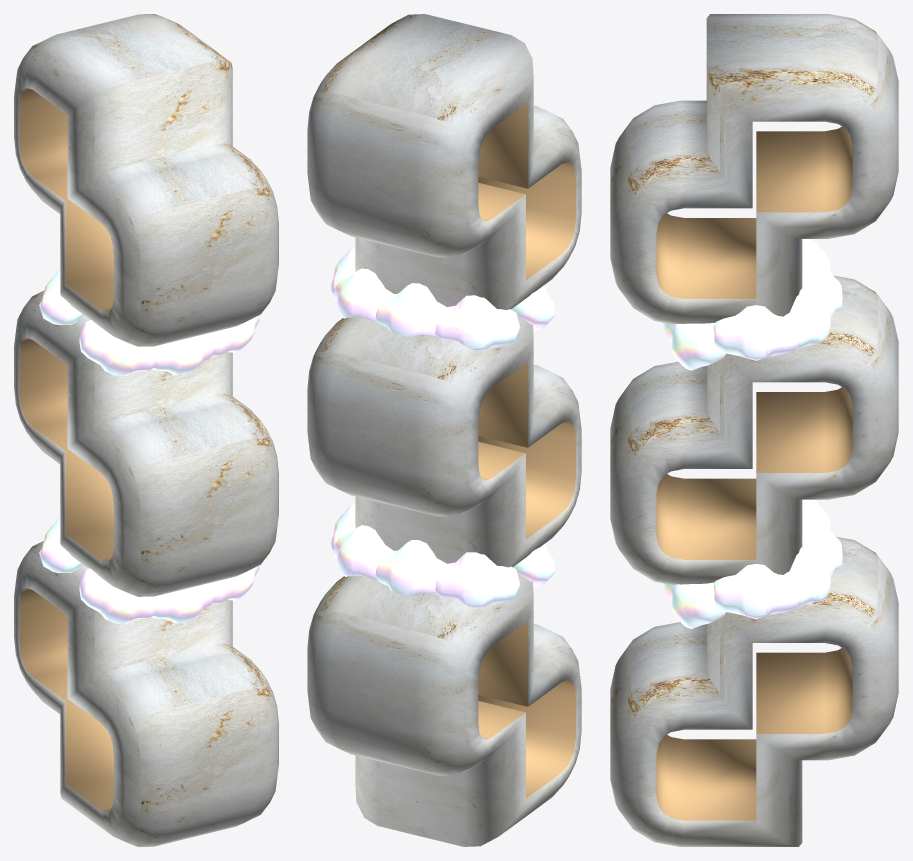
Rendered from track2Building2.glb.
The picture shows the model from 3 angles, left to right: view 1: azimuth 30°, elevation 25°; view 2: azimuth 150°, elevation 25°; view 3: azimuth 270°, elevation 25°; orthographic projection. The views are drawn at different scales.
Parts seen in each view (by area): view 1: track2building2; view 2: track2building2; view 3: track2building2.
Boxes of the visible parts, x1,y1,x2,y2 form: track2building2: [14, 14, 278, 846]; track2building2: [307, 14, 581, 846]; track2building2: [610, 14, 898, 846].
Bounding box in the file's own units: 1.46 × 5.52 × 1.84.
3 materials, 2 textured.
